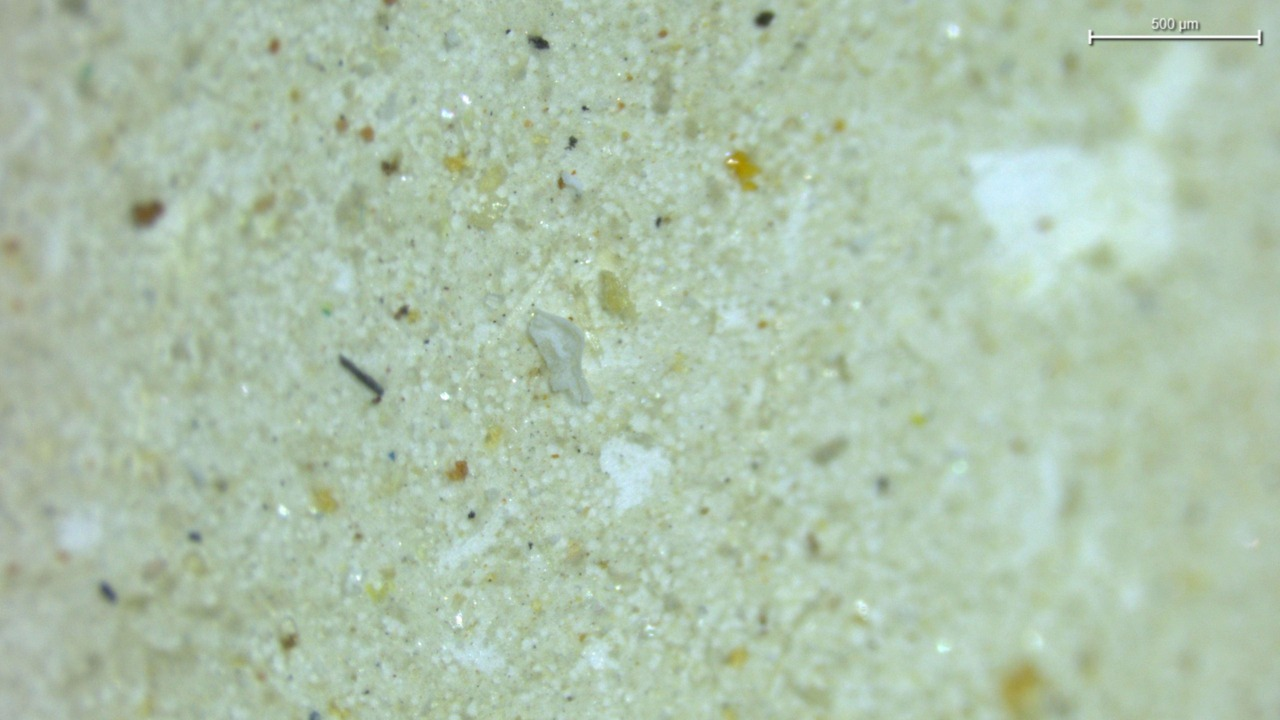microplastic_fragment: (528, 307, 591, 404), (598, 270, 636, 319)
